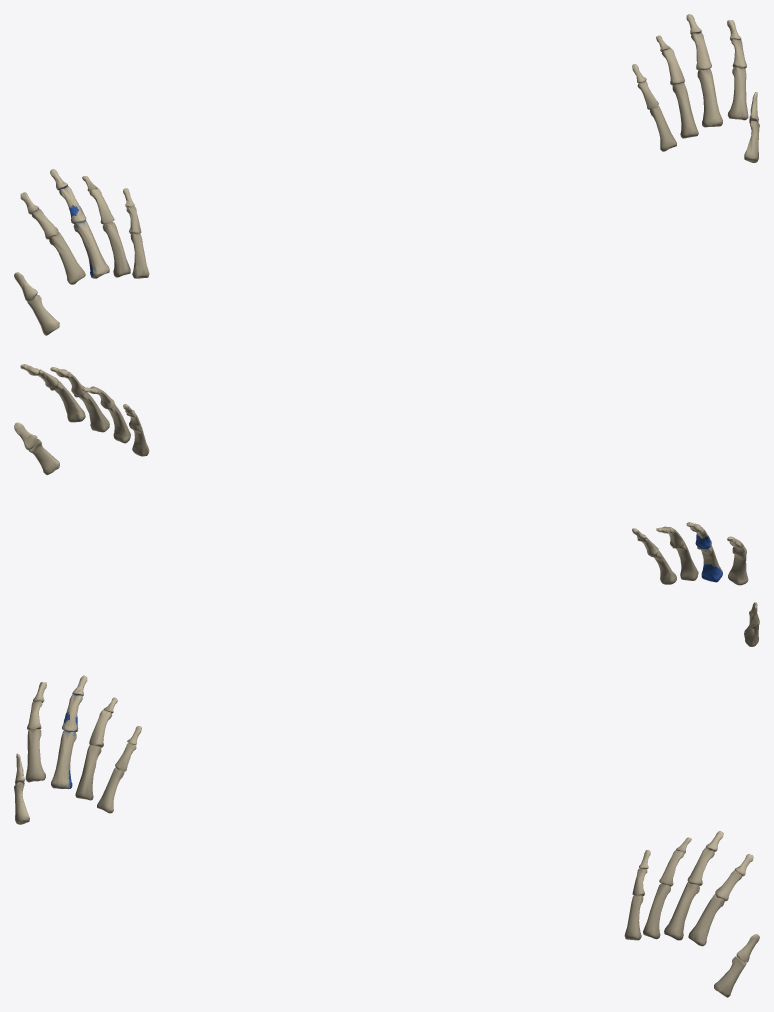
File: phalanges-manus.glb
The picture shows the model from 3 angles, top to bottom: view 1: azimuth 30°, elevation 25°; view 2: azimuth 150°, elevation 25°; view 3: azimuth 330°, elevation 25°; orthographic projection.
Visible parts, largest first — view 1: FJ3316, FJ3325, FJ3313, FJ3322, FJ3317, FJ3326, FJ3327, FJ3323, FJ3314; view 2: FJ3313, FJ3316, FJ3318, FJ3326, FJ3317; view 3: FJ3325, FJ3316, FJ3322, FJ3326, FJ3313, FJ3317, FJ3318, FJ3314, FJ3323.
Part boxes in pixels (left/top/right/bottom): FJ3316: left=697, top=68, right=722, bottom=127; FJ3325: left=73, top=220, right=109, bottom=278; FJ3313: left=727, top=67, right=748, bottom=120; FJ3322: left=49, top=232, right=85, bottom=284; FJ3317: left=672, top=82, right=698, bottom=138; FJ3326: left=102, top=222, right=130, bottom=277; FJ3327: left=27, top=295, right=59, bottom=335; FJ3323: left=130, top=233, right=149, bottom=278; FJ3314: left=650, top=105, right=676, bottom=151; FJ3313: left=50, top=381, right=85, bottom=422; FJ3316: left=74, top=392, right=109, bottom=432; FJ3318: left=28, top=439, right=59, bottom=474; FJ3326: left=672, top=542, right=698, bottom=580; FJ3317: left=108, top=404, right=130, bottom=443; FJ3325: left=51, top=730, right=76, bottom=789; FJ3316: left=664, top=882, right=699, bottom=940; FJ3322: left=25, top=729, right=45, bottom=782; FJ3326: left=75, top=744, right=101, bottom=800; FJ3313: left=688, top=894, right=724, bottom=946; FJ3317: left=643, top=884, right=670, bottom=939; FJ3318: left=714, top=956, right=746, bottom=997; FJ3314: left=624, top=895, right=643, bottom=940; FJ3323: left=97, top=767, right=124, bottom=813.
Size of the model in its own units: 648 by 114 by 61.34.
